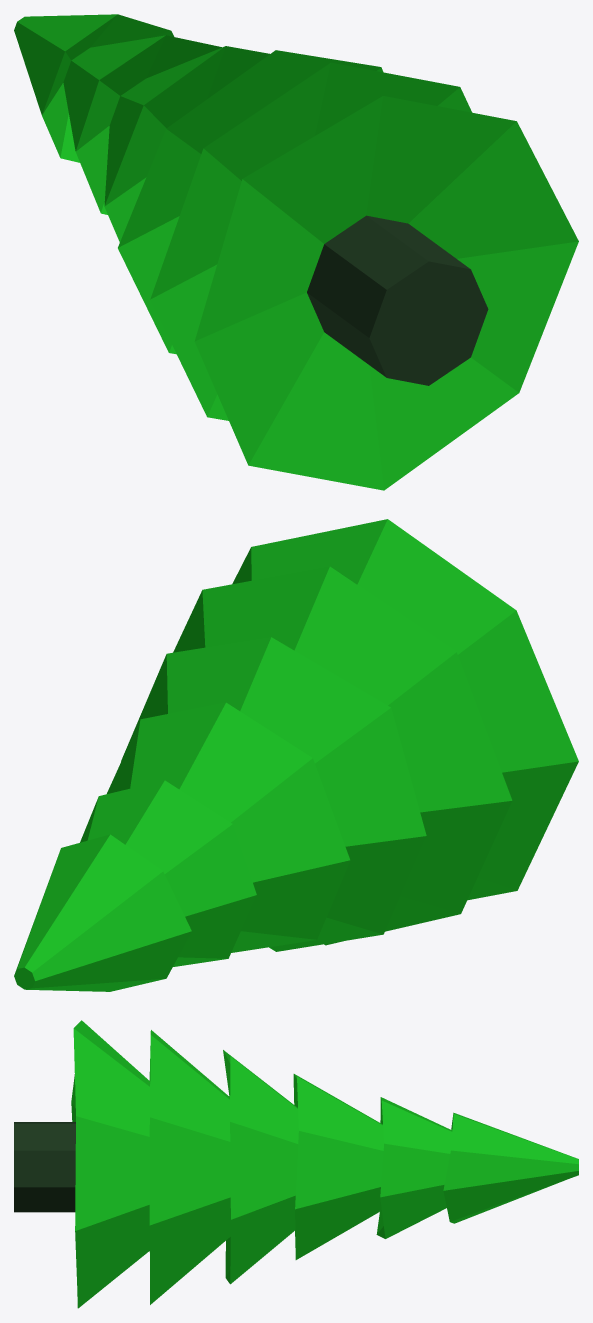
Rendered from Pine_3.fbx.
The picture shows the model from 3 angles, top to bottom: view 1: azimuth 30°, elevation 25°; view 2: azimuth 150°, elevation 25°; view 3: azimuth 270°, elevation 25°; orthographic projection. The views are drawn at different scales.
Visible parts, largest first — view 1: Pine_3; view 2: Pine_3; view 3: Pine_3.
Part boxes in pixels (left/top/right/bottom): Pine_3: left=14, top=14, right=578, bottom=490; Pine_3: left=14, top=519, right=578, bottom=991; Pine_3: left=14, top=1020, right=578, bottom=1308.
Size of the model in its own units: 132 by 130 by 239.
